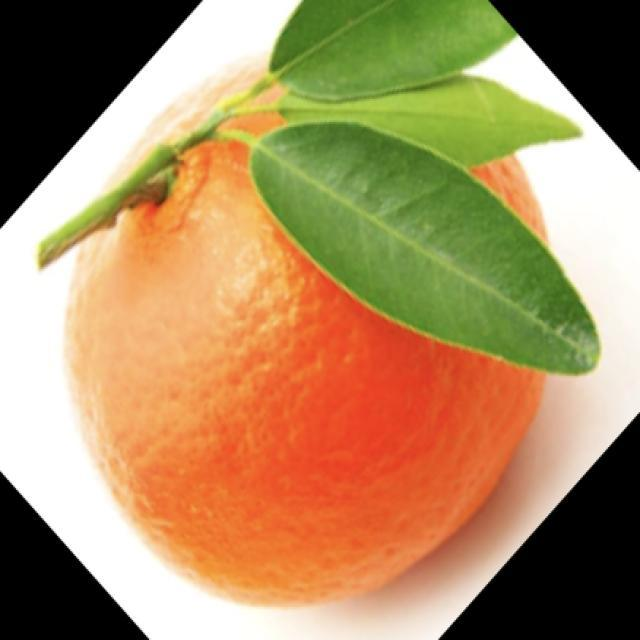Orange: (53, 58, 558, 608)
